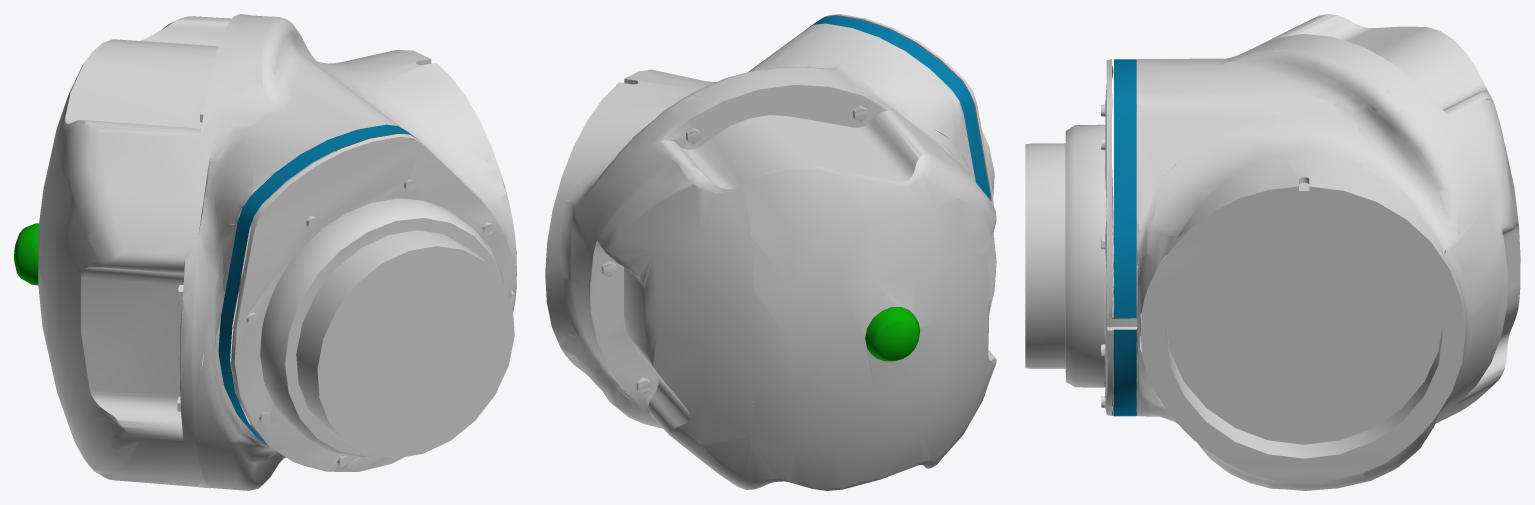
3 renders of one model, left to right at view 1: azimuth 30°, elevation 25°; view 2: azimuth 150°, elevation 25°; view 3: azimuth 270°, elevation 25°, orthographic. The views are drawn at different scales.
Parts seen in each view (by area): view 1: f_1-06vxhc20-b1_lk5; view 2: f_1-06vxhc20-b1_lk5; view 3: f_1-06vxhc20-b1_lk5.
Part boxes in pixels (left/top/right/bottom): f_1-06vxhc20-b1_lk5: left=14, top=14, right=516, bottom=490; f_1-06vxhc20-b1_lk5: left=545, top=14, right=996, bottom=490; f_1-06vxhc20-b1_lk5: left=1025, top=14, right=1520, bottom=490.
Bounding box in the file's own units: 0.2064 × 0.2406 × 0.22.
